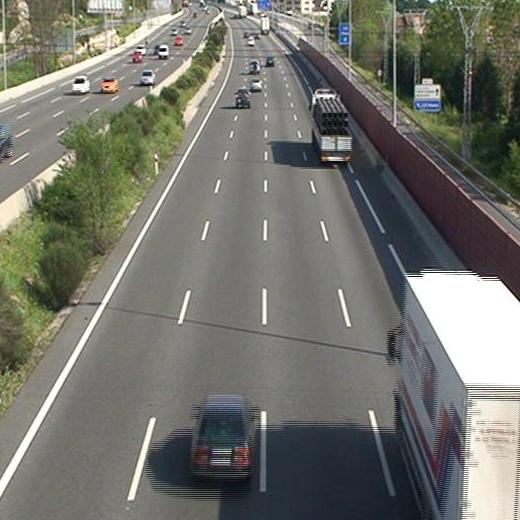car: (190, 400, 251, 474), (235, 90, 250, 106), (248, 60, 259, 72), (250, 79, 261, 91), (266, 56, 274, 65)
truck: (394, 273, 520, 520), (311, 93, 353, 161)
